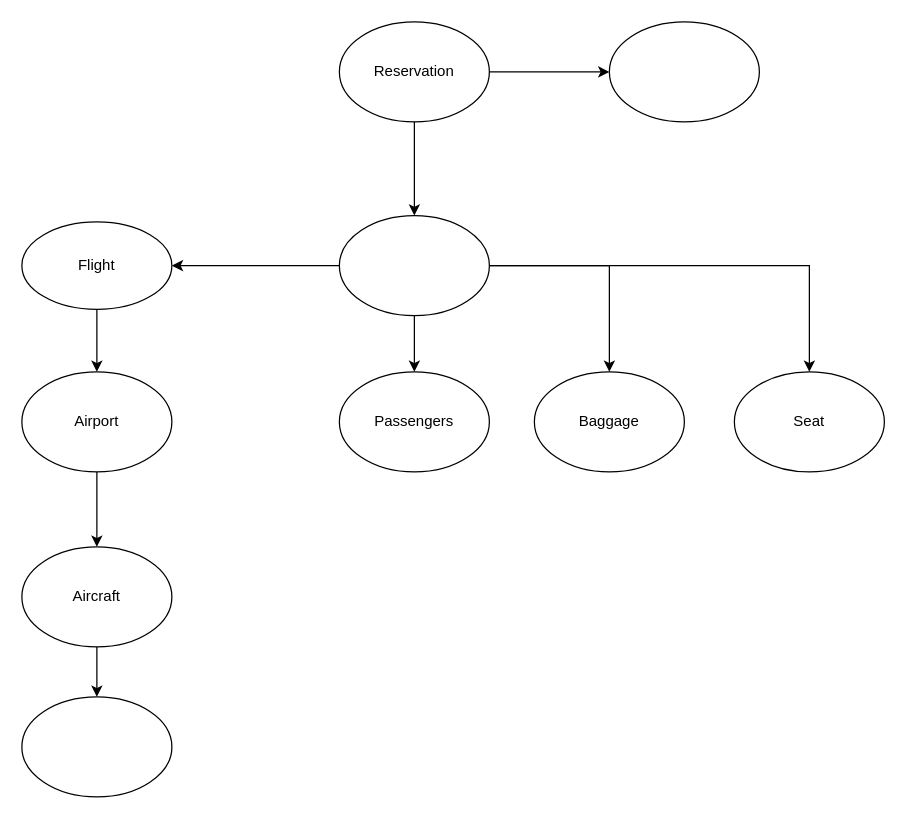
Image size: 906x819. Some labels were removed from this diagram. Each missing label, with the centre of its shape:
Airline: point (96, 746)
Payment: point (683, 71)
Ticket: point (413, 265)
